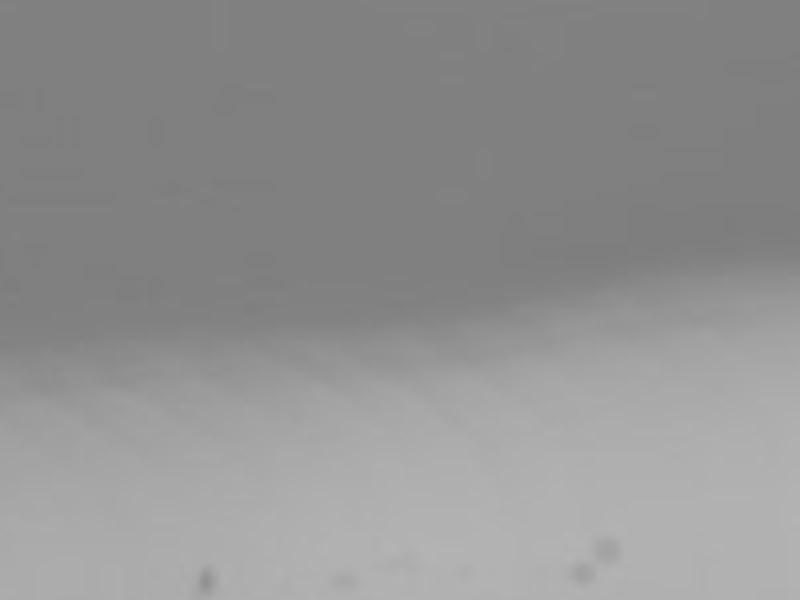defect: (592, 535, 623, 564), (326, 565, 357, 588), (568, 560, 597, 583), (197, 565, 219, 592)
